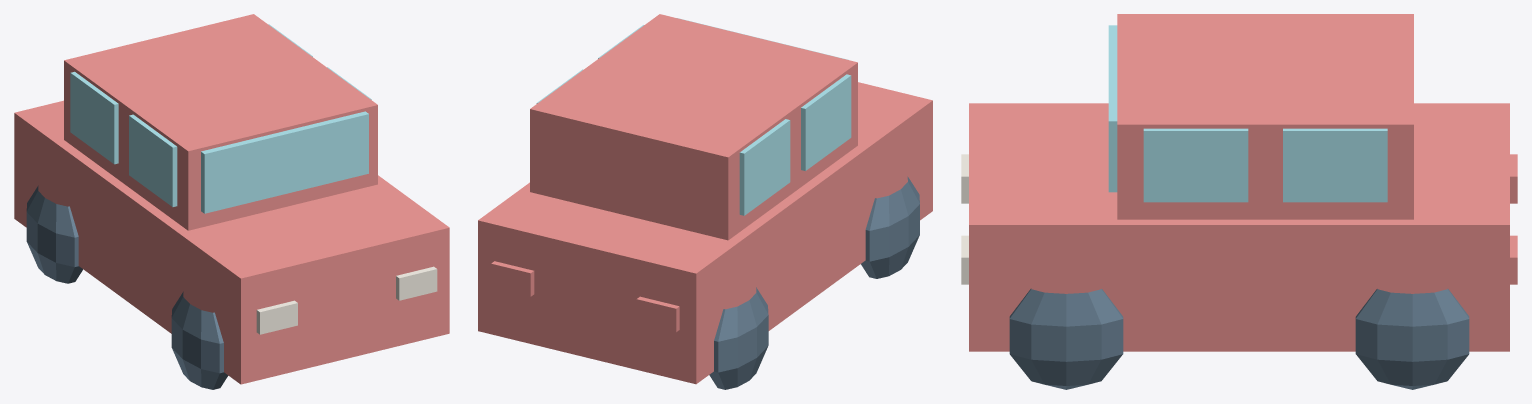
File: 20_parked_car.glb
3 renders of one model, left to right at view 1: azimuth 30°, elevation 25°; view 2: azimuth 150°, elevation 25°; view 3: azimuth 270°, elevation 25°, orthographic. The views are drawn at different scales.
Parts seen in each view (by area): view 1: 20_parked_car; view 2: 20_parked_car; view 3: 20_parked_car.
Part boxes in pixels (<box>): 20_parked_car: <box>14,14,449,389</box>; 20_parked_car: <box>478,14,932,389</box>; 20_parked_car: <box>961,14,1517,389</box>.
Size of the model in its own units: 1.92 by 1.65 by 3.19.
